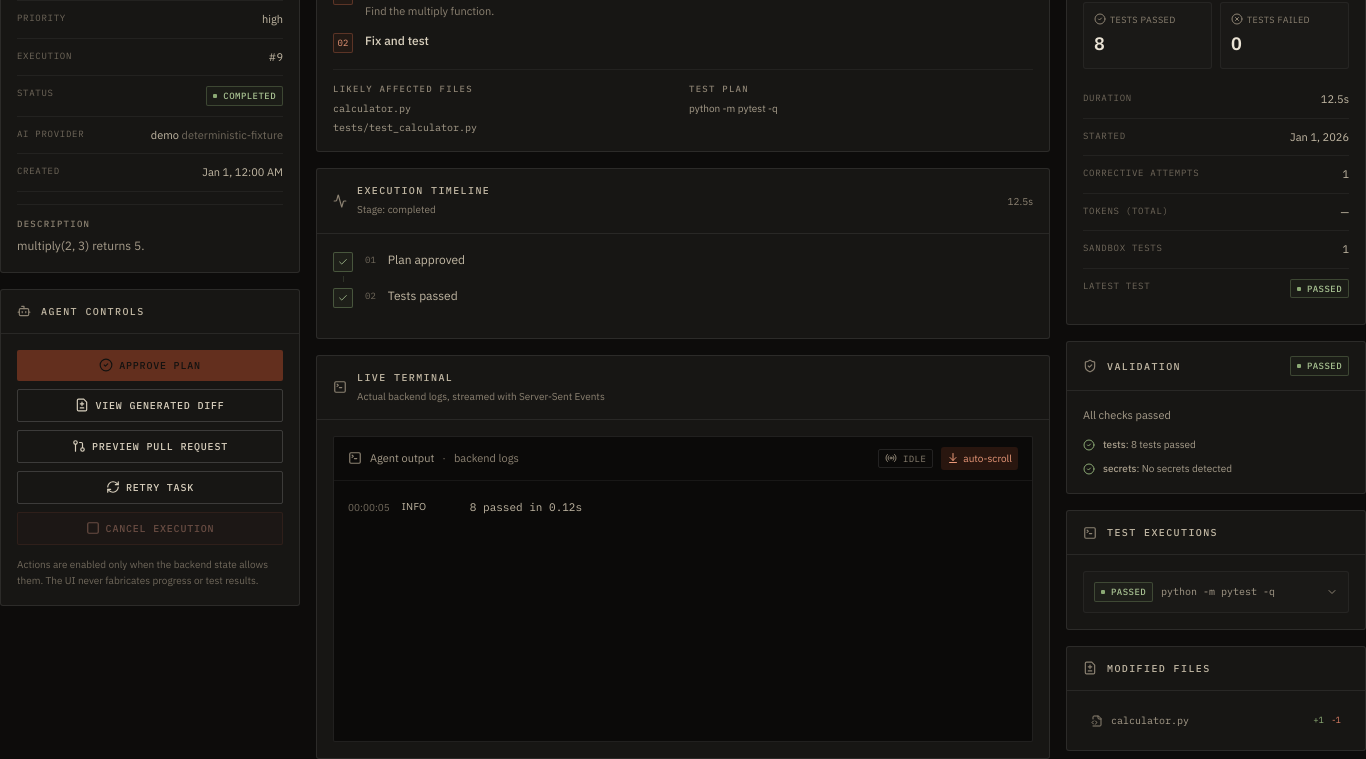
Test case: Workspace › previews the pull request draft without offering to merge
(page scrolled)
Click the button "Preview pull request". click: (150, 446)
box: top-left (17, 430), bottom-right (283, 463)
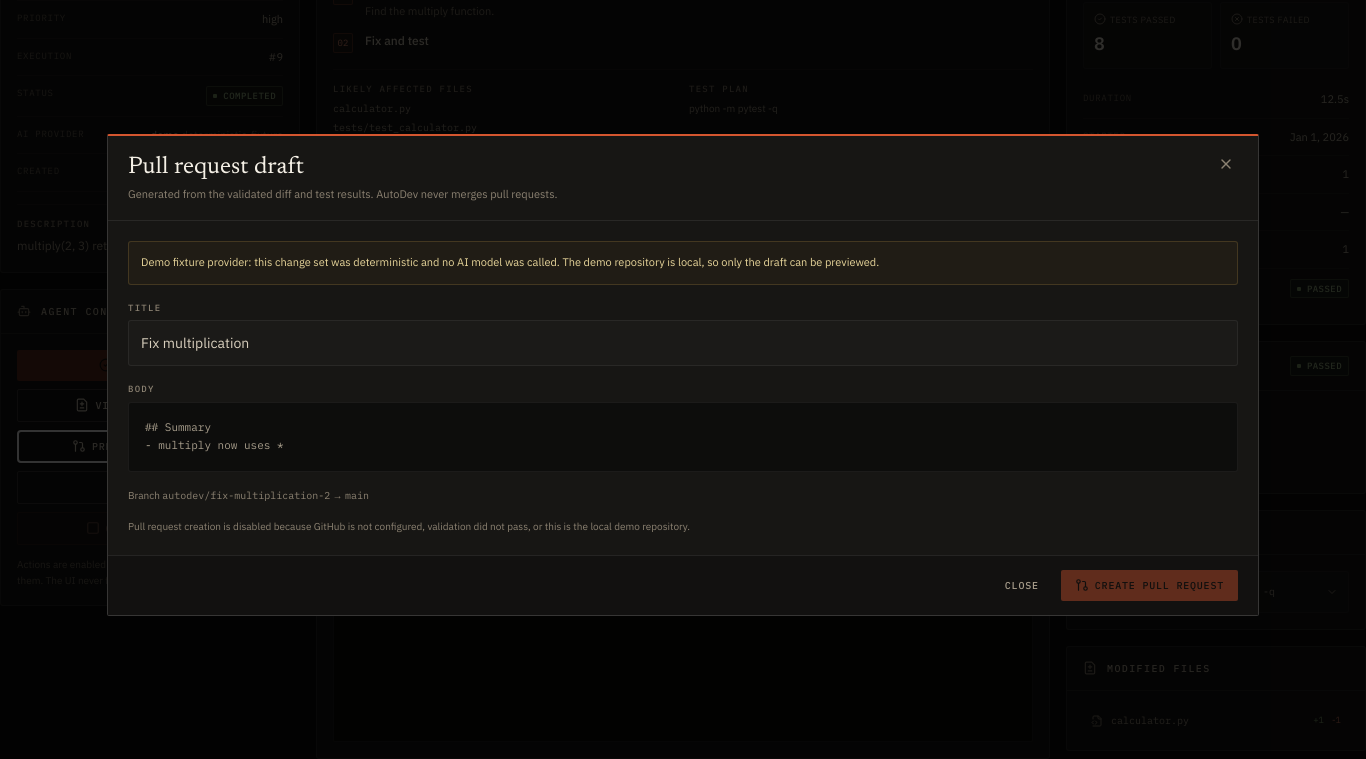
Expected: the heading "Pull request draft" is shown, top-left (128, 155), bottom-right (304, 179)
Expected: the text "## Summary - multiply now uses *" is shown, top-left (128, 402), bottom-right (1238, 472)
Expected: the button "Create pull request" is disabled, top-left (1061, 570), bottom-right (1238, 601)
